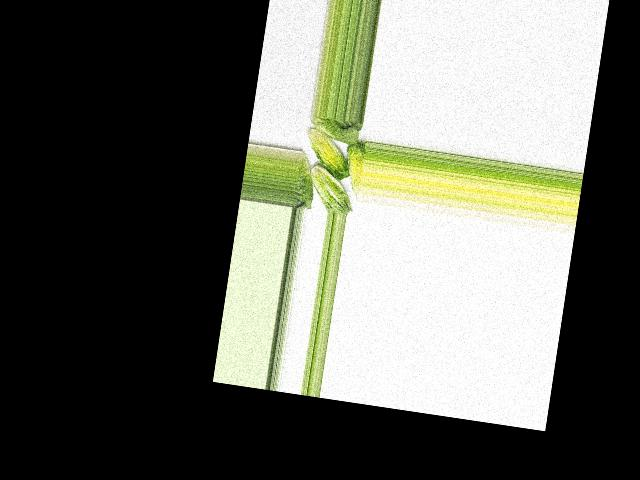lettuce: (308, 115, 363, 147)
